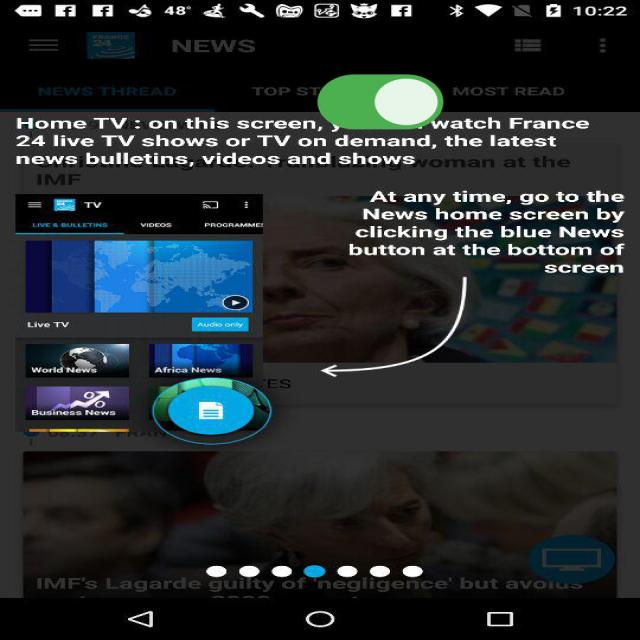social proof: (312, 53, 449, 155)
